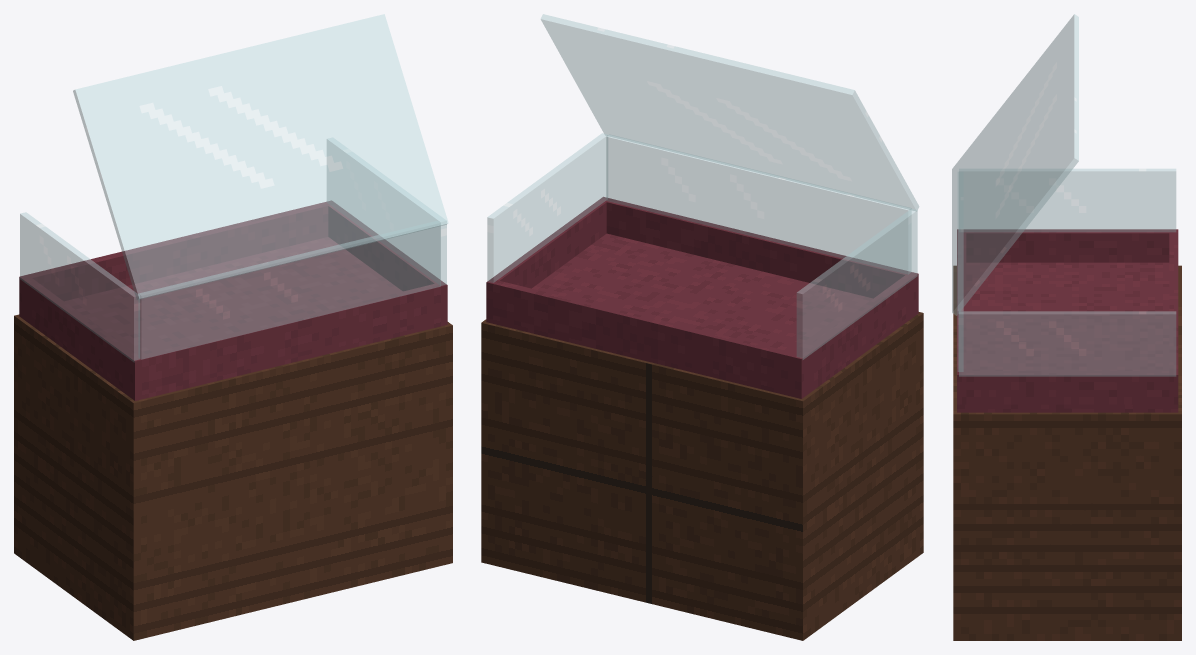
File: f_displaycase_o.glb
3 views of the same model, side by side, from view 1: azimuth 30°, elevation 25°; view 2: azimuth 150°, elevation 25°; view 3: azimuth 270°, elevation 25° (orthographic). The views are drawn at different scales.
Parts seen in each view (by area): view 1: block_wood-cabinet, block_open-glass-lid, block_velvet-bed-base, block_back-glass, block_side-glass (×2), block_velvet-bed-end-1, block_velvet-bed-end--1, block_velvet-bed-side--1, block_velvet-bed-side-1; view 2: block_wood-cabinet, block_open-glass-lid, block_velvet-bed-base, block_back-glass, block_side-glass (×2), block_velvet-bed-end--1, block_velvet-bed-end-1, block_velvet-bed-side--1, block_velvet-bed-side-1; view 3: block_wood-cabinet, block_side-glass (×2), block_velvet-bed-base, block_open-glass-lid, block_velvet-bed-side-1, block_velvet-bed-side--1, block_velvet-bed-end--1, block_velvet-bed-end-1, block_back-glass.
Boxes of the visible parts, x1,y1,x2,y2 form: block_wood-cabinet: (14,314,452,640); block_open-glass-lid: (73,14,448,299); block_velvet-bed-base: (19,237,447,400); block_back-glass: (138,221,440,359); block_side-glass (×2): (20,138,446,361); block_velvet-bed-end-1: (130,282,447,392); block_velvet-bed-end--1: (19,200,335,310); block_velvet-bed-side--1: (24,278,137,388); block_velvet-bed-side-1: (328,204,442,291); block_wood-cabinet: (481,312,923,640); block_open-glass-lid: (541,14,919,210); block_velvet-bed-base: (486,233,918,398); block_back-glass: (606,135,911,273); block_side-glass (×2): (487,133,917,359); block_velvet-bed-end--1: (486,279,806,390); block_velvet-bed-end-1: (599,197,918,307); block_velvet-bed-side--1: (798,275,913,386); block_velvet-bed-side-1: (491,200,606,288); block_wood-cabinet: (953,265,1181,640); block_side-glass (×2): (959,168,1176,376); block_velvet-bed-base: (957,262,1178,412); block_open-glass-lid: (952,14,1078,315); block_velvet-bed-side-1: (966,371,1169,404); block_velvet-bed-side--1: (966,229,1169,262); block_velvet-bed-end--1: (1169,229,1178,404); block_velvet-bed-end-1: (957,229,966,404); block_back-glass: (957,172,963,371).
Size of the model in its own units: 0.97 by 1.46 by 0.6338.
Materials: 2 (2 with a texture image).
